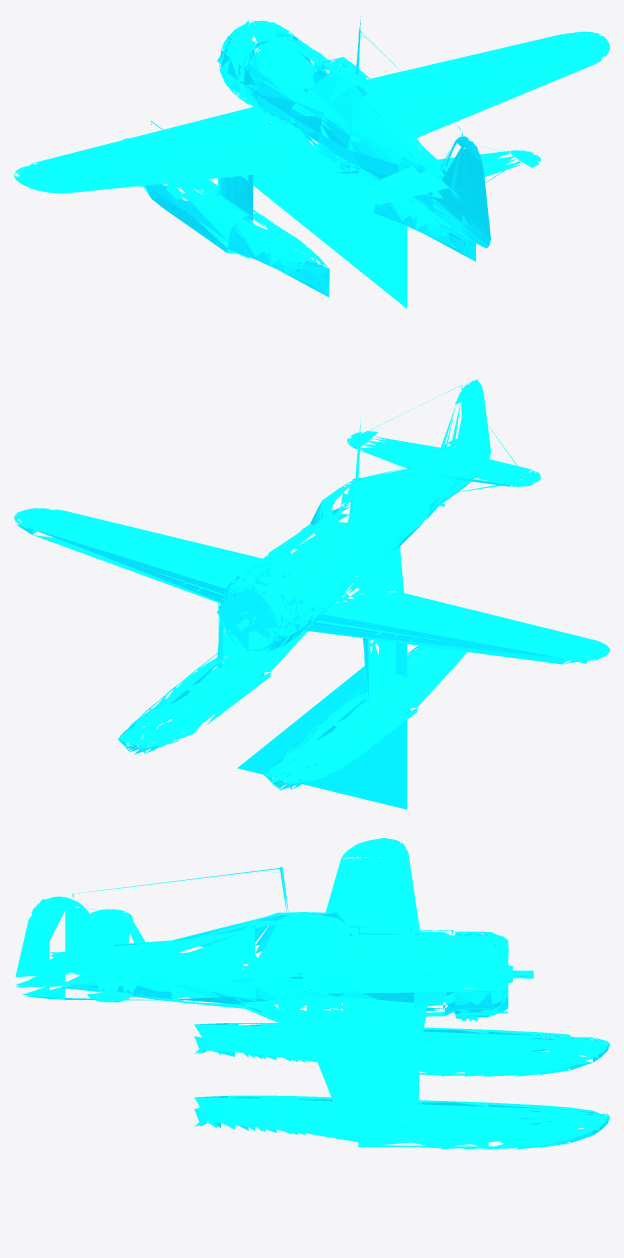
File: PHAF004.glb
3 views of the same model, one above another, from view 1: azimuth 30°, elevation 25°; view 2: azimuth 150°, elevation 25°; view 3: azimuth 270°, elevation 25° (orthographic).
Parts seen in each view (by area): view 1: misc; view 2: misc; view 3: misc.
Part boxes in pixels (left/top/right/bottom): misc: left=14, top=15, right=609, bottom=308; misc: left=14, top=379, right=609, bottom=809; misc: left=15, top=838, right=609, bottom=1149.
Size of the model in its own units: 0.7331 by 0.4102 by 0.6315.
